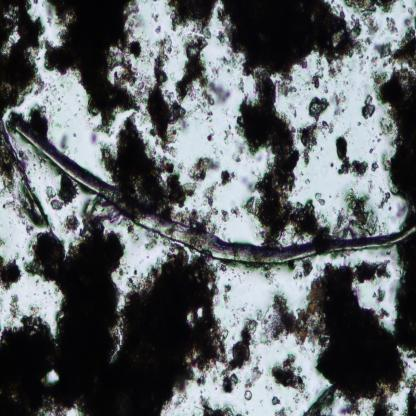Background material: (0, 214, 228, 416), (253, 260, 416, 416), (231, 71, 328, 245), (46, 0, 148, 135), (220, 0, 372, 86), (371, 29, 416, 231), (101, 112, 187, 216), (0, 0, 47, 115), (147, 39, 192, 157), (174, 37, 230, 114), (297, 91, 344, 166), (332, 188, 383, 238), (394, 244, 416, 358), (181, 146, 222, 201), (166, 0, 222, 39), (344, 0, 397, 37), (270, 352, 308, 396), (334, 137, 372, 175), (215, 114, 245, 160), (189, 208, 242, 228), (44, 178, 76, 210), (203, 171, 236, 202), (309, 63, 344, 90), (242, 366, 263, 404), (0, 261, 23, 293), (219, 363, 242, 394), (238, 314, 260, 344), (362, 282, 387, 302), (262, 267, 278, 290), (362, 94, 376, 120), (222, 280, 234, 308), (375, 189, 391, 210), (384, 14, 398, 35), (301, 259, 314, 278), (265, 392, 281, 406), (367, 159, 382, 173), (314, 191, 326, 206), (206, 125, 216, 142), (148, 9, 159, 23), (272, 406, 289, 415), (152, 24, 164, 36), (367, 147, 374, 155)
Cellulose filter fibre: (0, 128, 50, 238)
Diatom: (232, 342, 250, 364)
Microfibre: (14, 121, 416, 266)
